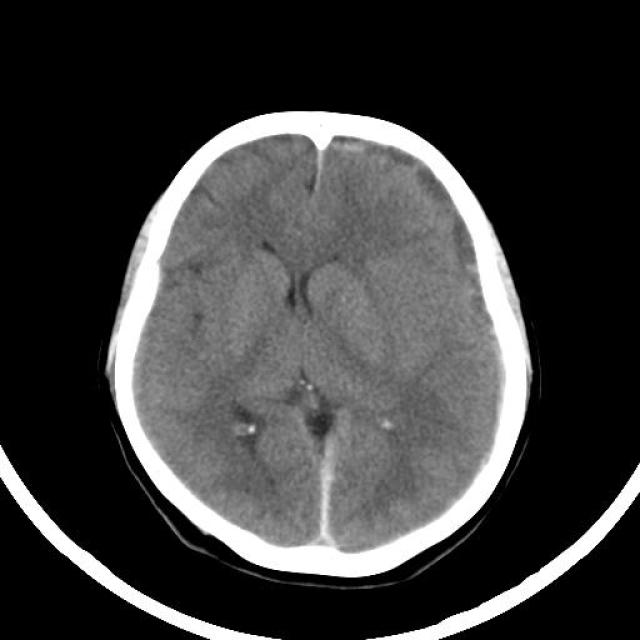Subdural: (290, 410, 365, 571)
